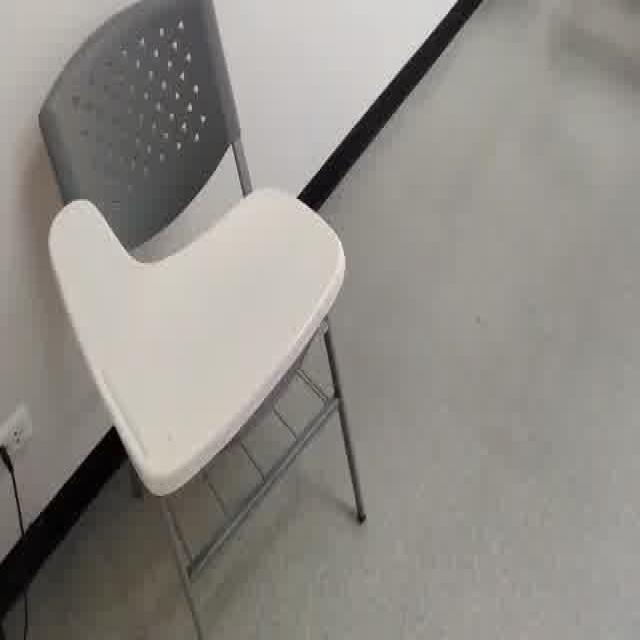chair: (22, 9, 383, 640)
